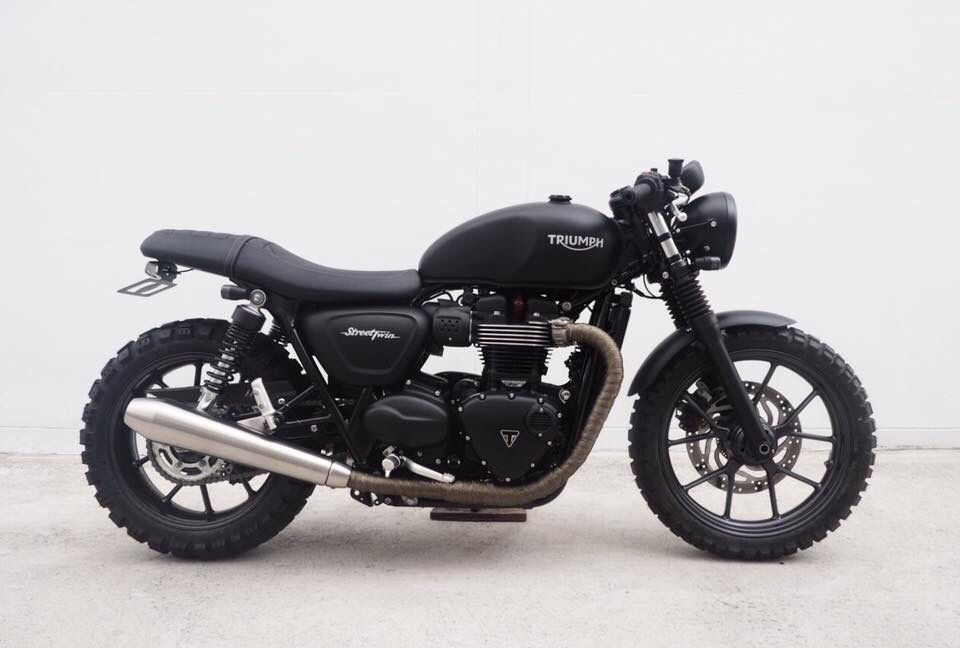motorcycle: (75, 172, 874, 560)
